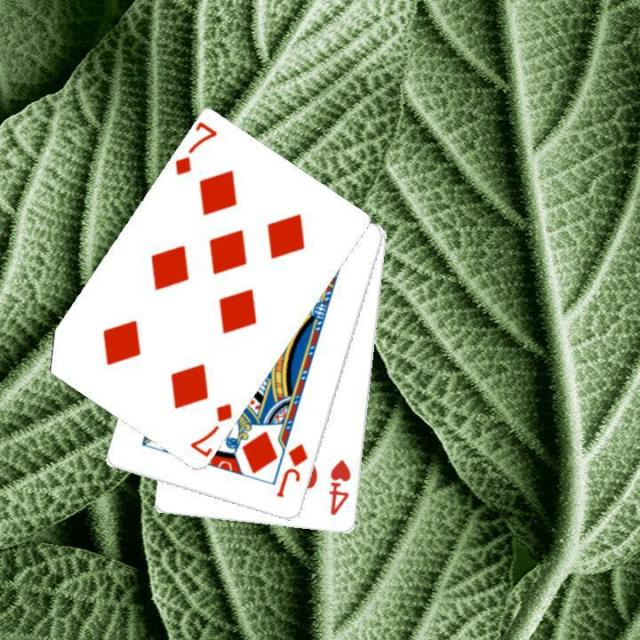4H: (325, 456, 354, 517)
7D: (170, 119, 220, 179), (186, 399, 234, 458)
JD: (272, 440, 310, 500)
